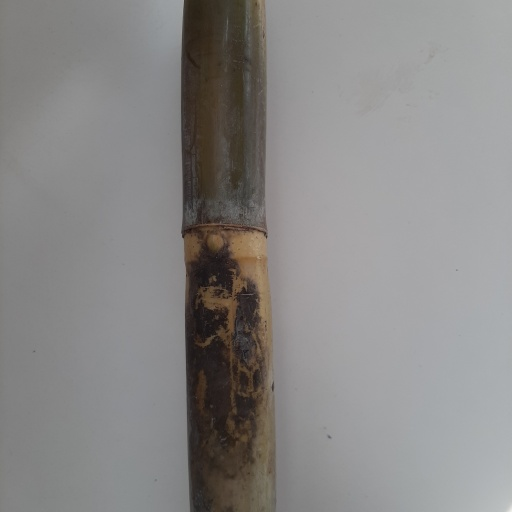Bud: (205, 231, 224, 261)
